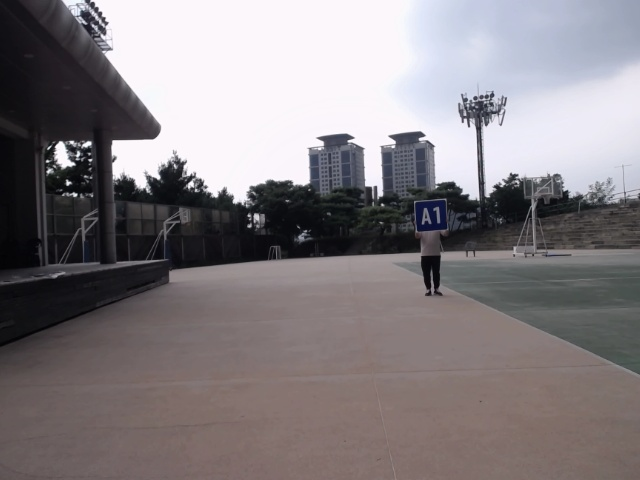delivery_a1: (415, 200, 447, 233)
